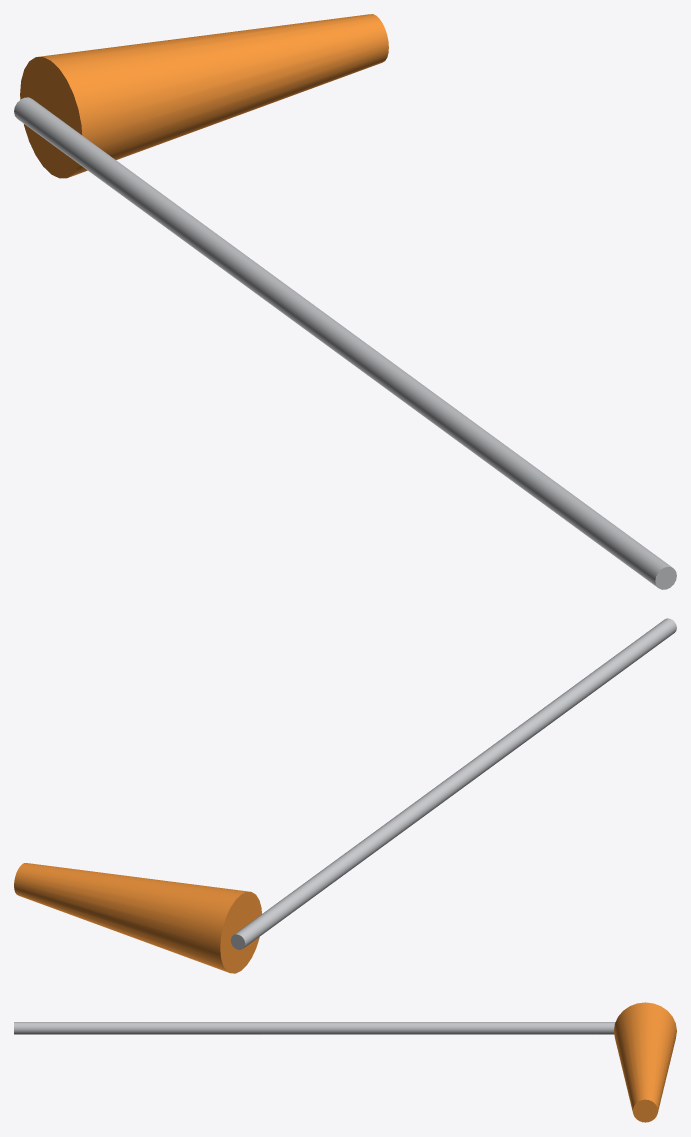
3 views of the same model, one above another, from view 1: azimuth 30°, elevation 25°; view 2: azimuth 150°, elevation 25°; view 3: azimuth 270°, elevation 25° (orthographic). The views are drawn at different scales.
Parts seen in each view (by area): view 1: sock, pole; view 2: sock, pole; view 3: pole, sock.
Boxes of the visible parts, x1,y1,x2,y2 form: sock: (20,14,388,178); pole: (14,97,676,589); sock: (14,863,261,973); pole: (230,618,676,949); pole: (14,1022,615,1034); sock: (614,1002,676,1122).
Size of the model in its own units: 1.28 by 0.4 by 4.2.
